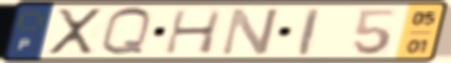5: (351, 7, 399, 57)
H: (161, 8, 226, 56)
I: (296, 6, 323, 58)
N: (217, 6, 283, 58)
Q: (98, 5, 155, 59)
X: (46, 7, 106, 57)
